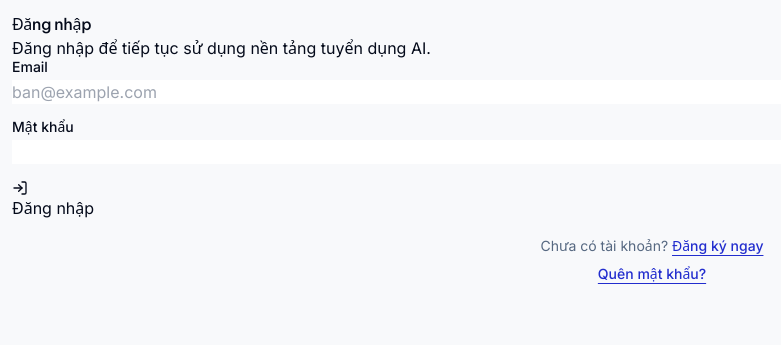
Test: LoginPage › shows validation errors for empty form
The image size is (781, 345).
Click the button "Đăng nhập": (53, 200) [12,180,94,220]
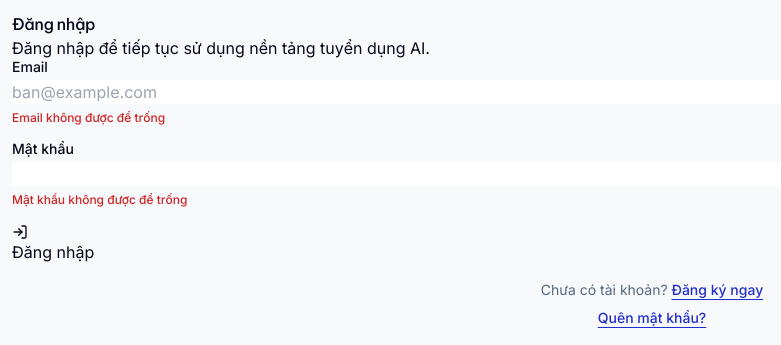
Result: the text "Email không được để trống" is shown at [12,110,165,125]
Result: the text "Mật khẩu không được để trống" is shown at [12,192,187,207]
